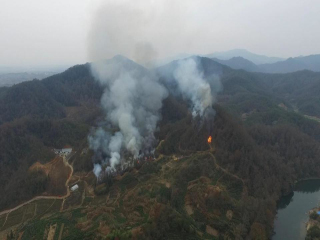smoke: (78, 4, 172, 180), (174, 57, 221, 122)
